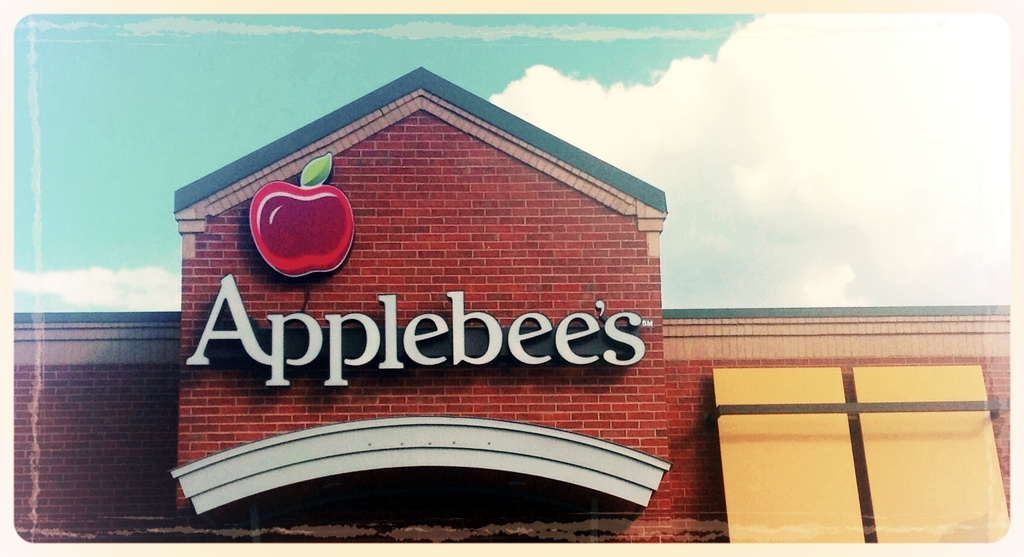Apple: (250, 186, 351, 289)
